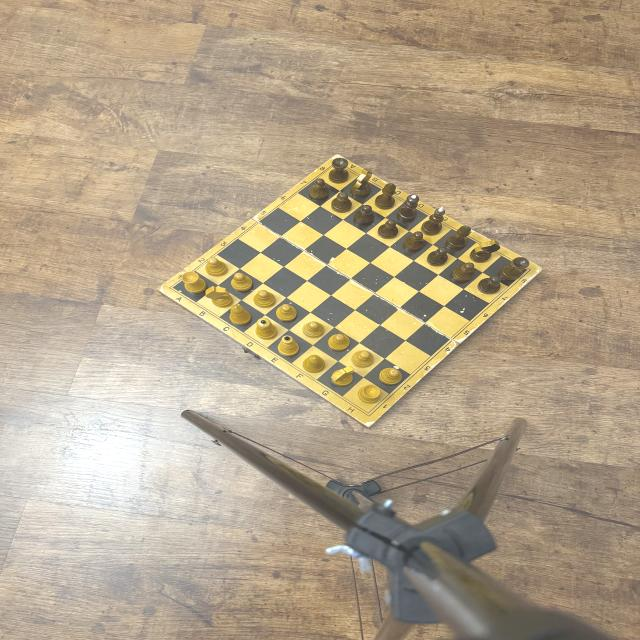black-bishop: (445, 225, 471, 250), (374, 183, 396, 210)
black-king: (421, 206, 445, 236)
black-knight: (470, 240, 500, 264), (349, 169, 373, 198)
black-pawn: (451, 263, 475, 282), (331, 192, 352, 213), (309, 178, 329, 200), (353, 205, 375, 225), (477, 276, 501, 294), (404, 232, 425, 252), (427, 247, 448, 267), (378, 220, 398, 239)
black-queen: (396, 194, 420, 223)
black-rook: (499, 257, 529, 281), (328, 158, 349, 184)
white-bishop: (229, 304, 252, 326), (302, 355, 326, 373)
white-king: (277, 335, 300, 357)
white-knight: (205, 286, 233, 308), (331, 366, 355, 386)
white-pawn: (205, 257, 228, 277), (230, 272, 253, 292), (378, 367, 402, 385), (352, 349, 374, 368), (253, 290, 276, 308), (327, 333, 350, 351), (276, 303, 296, 322), (302, 321, 324, 338)
white-queen: (255, 318, 277, 340)
white-rook: (182, 271, 208, 294), (358, 384, 381, 404)
